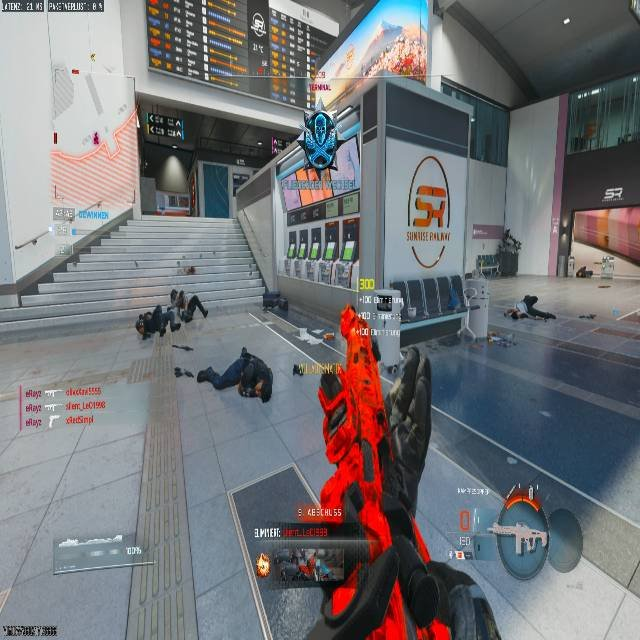head: (248, 377, 272, 403), (523, 294, 538, 306)
player: (134, 287, 209, 345)
